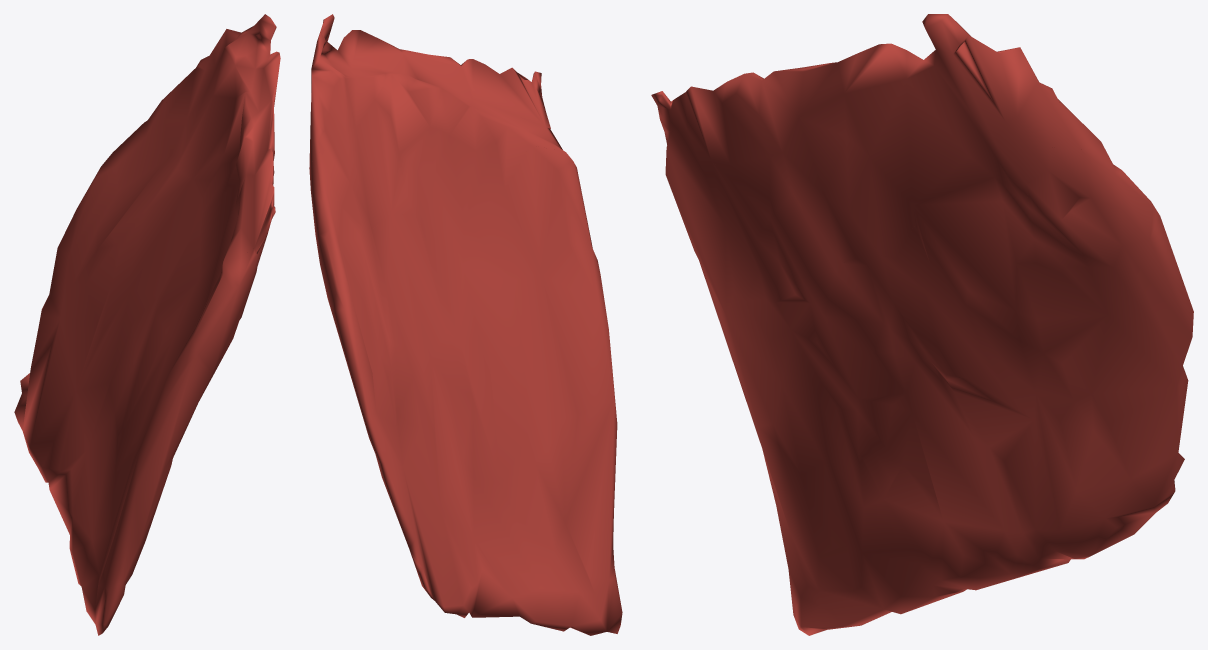
File: musculos-superficial-part-of-masseter-l.glb
3 views of the same model, side by side, from view 1: azimuth 30°, elevation 25°; view 2: azimuth 150°, elevation 25°; view 3: azimuth 270°, elevation 25° (orthographic). The views are drawn at different scales.
Visible parts, largest first — view 1: Superficial part of masseter.l; view 2: Superficial part of masseter.l; view 3: Superficial part of masseter.l.
Part boxes in pixels (box(x1,y1,x2,y2)): Superficial part of masseter.l: box(14, 14, 280, 635); Superficial part of masseter.l: box(309, 14, 622, 635); Superficial part of masseter.l: box(651, 14, 1193, 635).
Bounding box in the file's own units: 0.0266 × 0.0621 × 0.0395.
